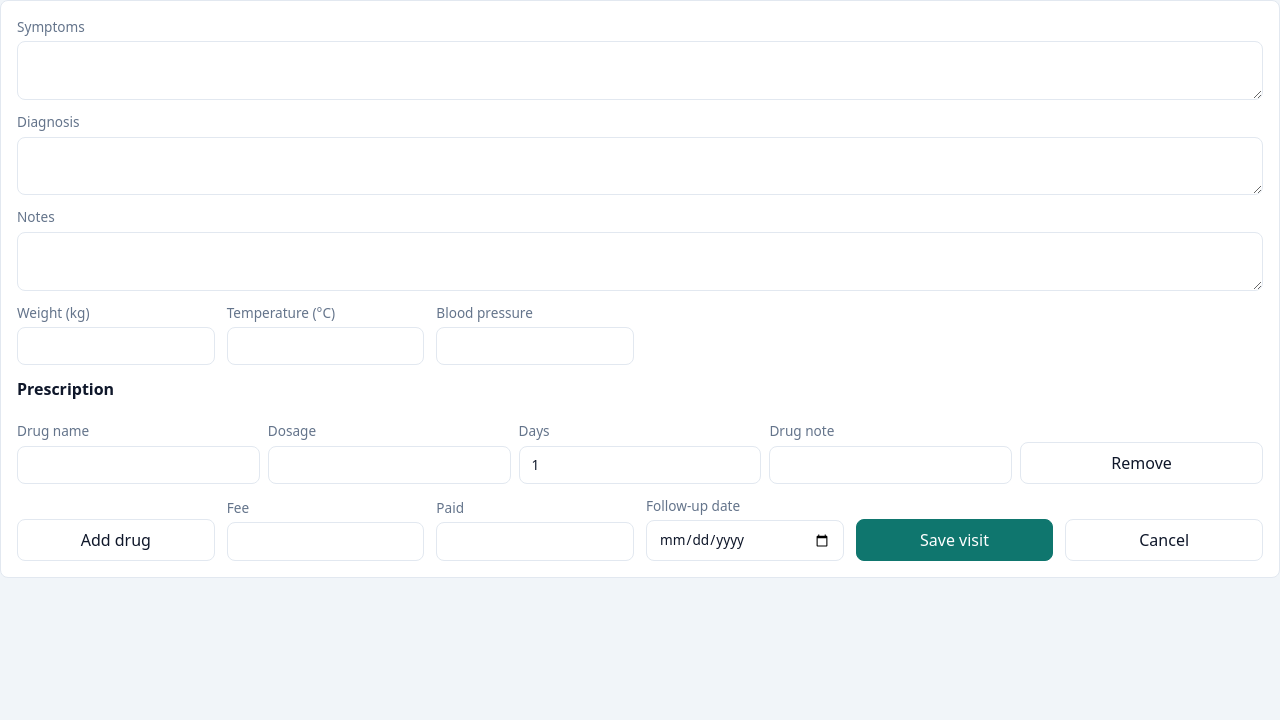
it: paid above fee shows an error and does not submit
The width and height of the screenshot is (1280, 720).
Type "100" into the field labelled "Fee". click: x=326, y=542
box: 227,522 -> 424,561
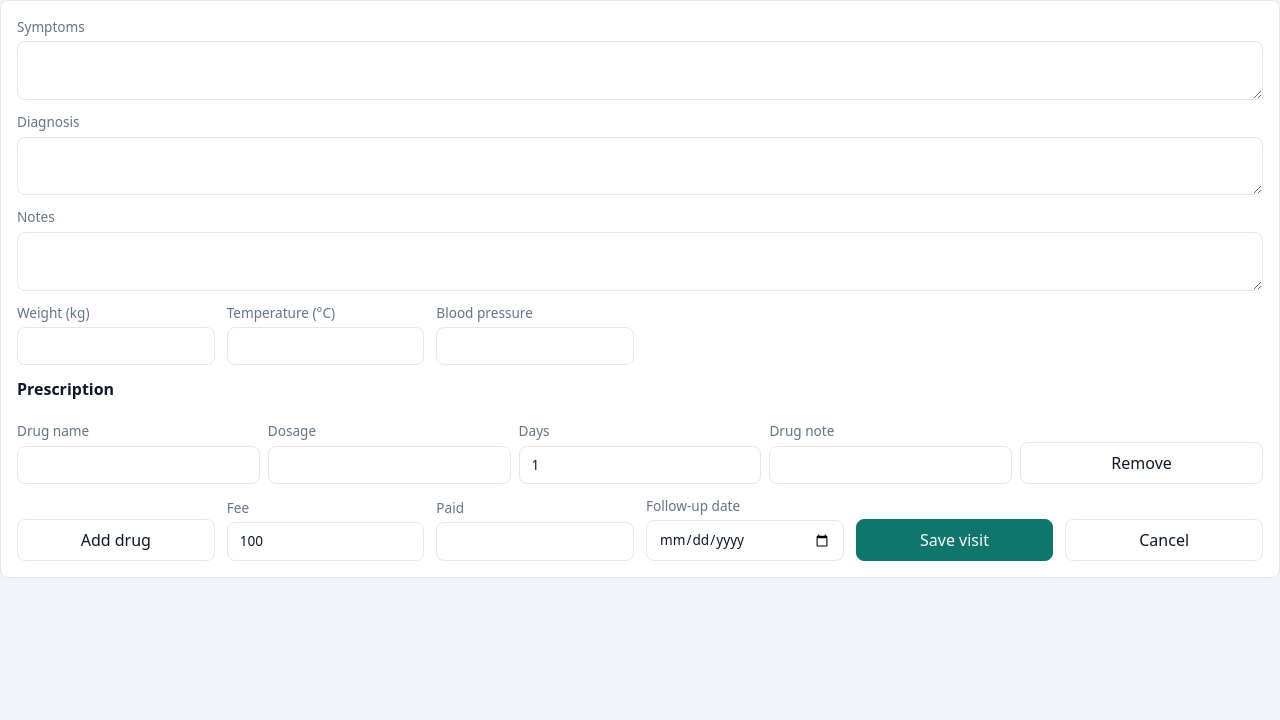
Type "200" into the field labelled "Paid". click: x=535, y=542
box: 436,522 -> 634,561
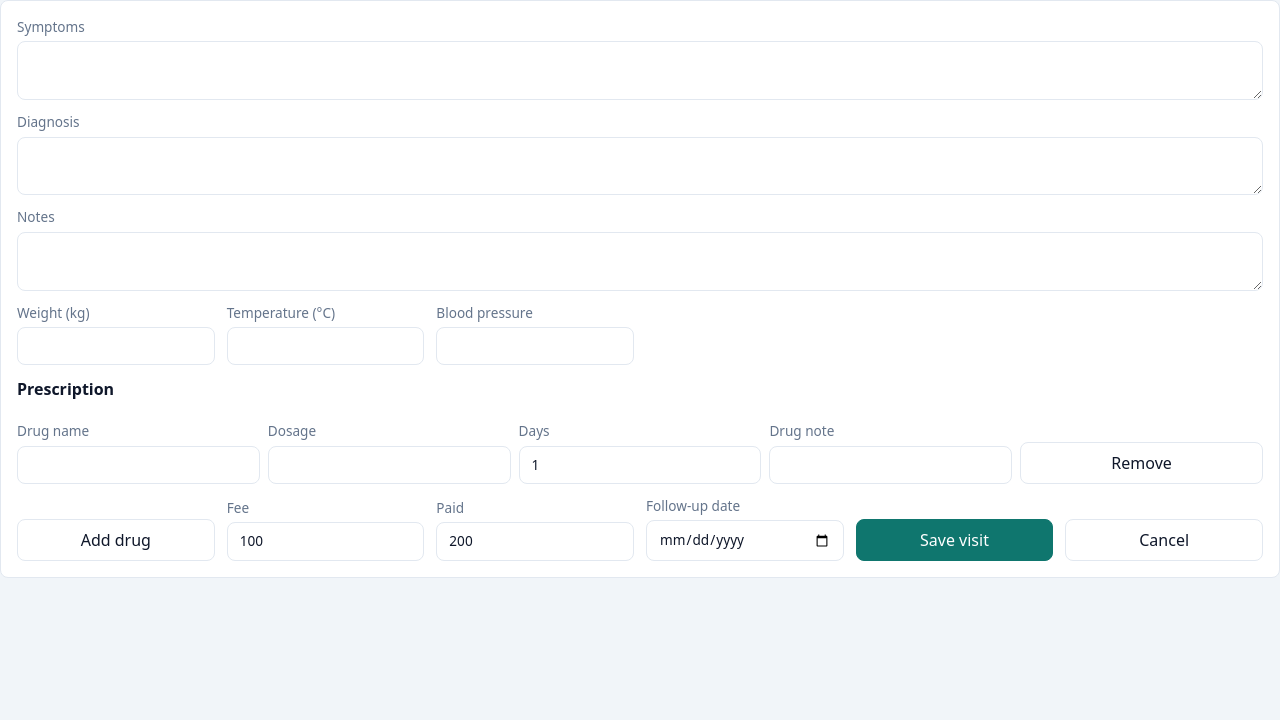
Click the button "Save visit". click: x=955, y=540
box: 856,519 -> 1053,561
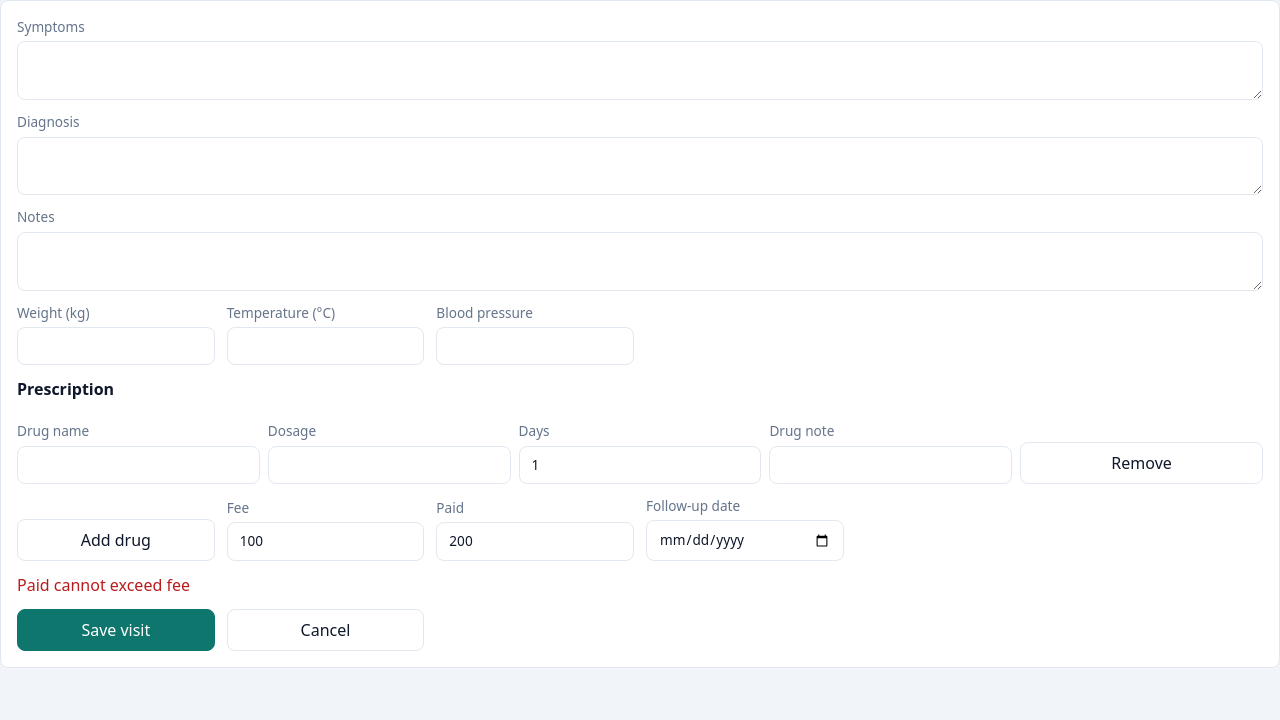
Expected: the text "Paid cannot exceed fee" is shown, 17,574 -> 190,596
